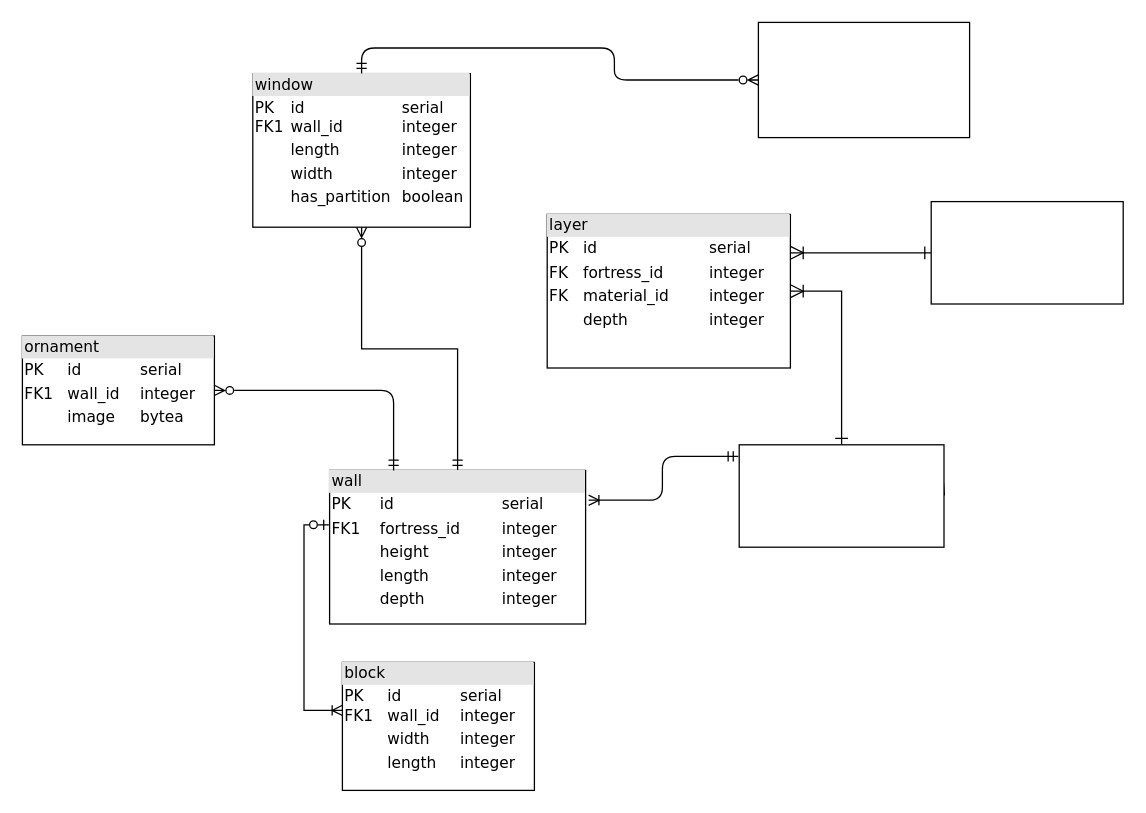
Some shapes in this 1146 by 813 pixel diagram are drawn without their labels. Each missing label, with the box of its shape:
Fortress PK id serial name varchar(20) square integer: (738, 444, 944, 547)
material PK id serial name varchar(30) density integer: (930, 200, 1123, 304)
partition PK id serial FK1 window_id integer count integer: (757, 21, 970, 138)
